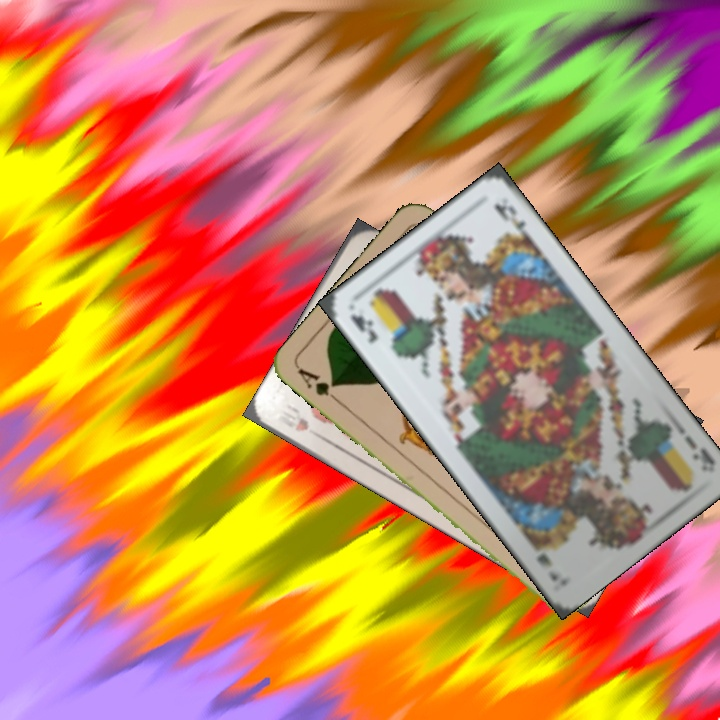EK: (681, 432, 718, 475), (346, 310, 381, 346)
GA: (294, 364, 344, 407)
H10: (269, 404, 327, 443)
